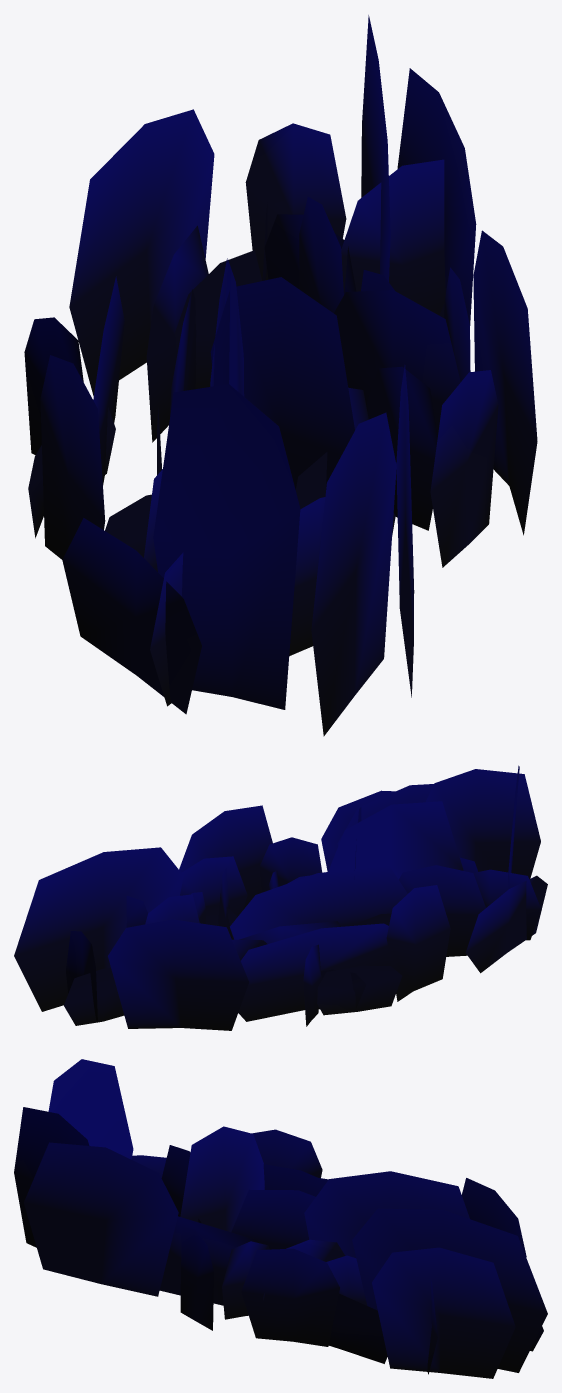
Rendered from SM_Grass_M_Patch_L_02.fbx.
3 renders of one model, top to bottom at view 1: azimuth 30°, elevation 25°; view 2: azimuth 150°, elevation 25°; view 3: azimuth 270°, elevation 25°, orthographic. The views are drawn at different scales.
Parts seen in each view (by area): view 1: SM_Grass_M_Patch_L_02; view 2: SM_Grass_M_Patch_L_02; view 3: SM_Grass_M_Patch_L_02.
Part boxes in pixels (x1,y1,x2,y2): SM_Grass_M_Patch_L_02: [24, 15, 537, 736]; SM_Grass_M_Patch_L_02: [14, 765, 547, 1030]; SM_Grass_M_Patch_L_02: [14, 1059, 547, 1378].
Bounding box in the file's own units: 285 × 387 × 139.
